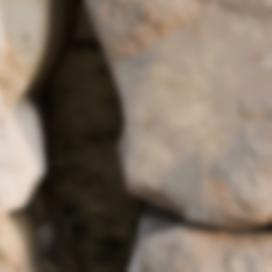brick: (0, 96, 36, 212), (0, 8, 6, 63), (0, 270, 14, 271)
broken_brick: (89, 0, 271, 226), (141, 228, 271, 271)
crack: (2, 0, 271, 271)
